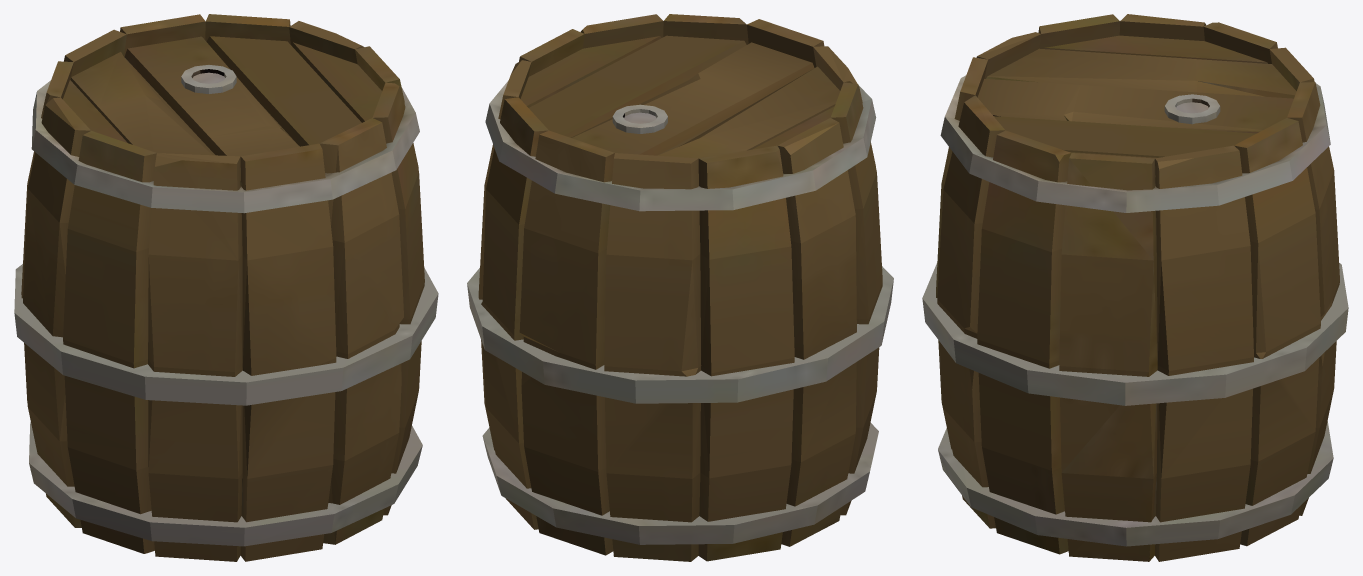
File: barrel.glb
The picture shows the model from 3 angles, left to right: view 1: azimuth 30°, elevation 25°; view 2: azimuth 150°, elevation 25°; view 3: azimuth 270°, elevation 25°; orthographic projection.
Parts seen in each view (by area): view 1: barrel; view 2: barrel; view 3: barrel.
Boxes of the visible parts, x1,y1,x2,y2 form: barrel: (14,14,438,561); barrel: (467,14,893,561); barrel: (922,14,1348,561).
Bounding box in the file's own units: 0.7711 × 0.8 × 0.7717.
Materials: 1 (1 with a texture image).
